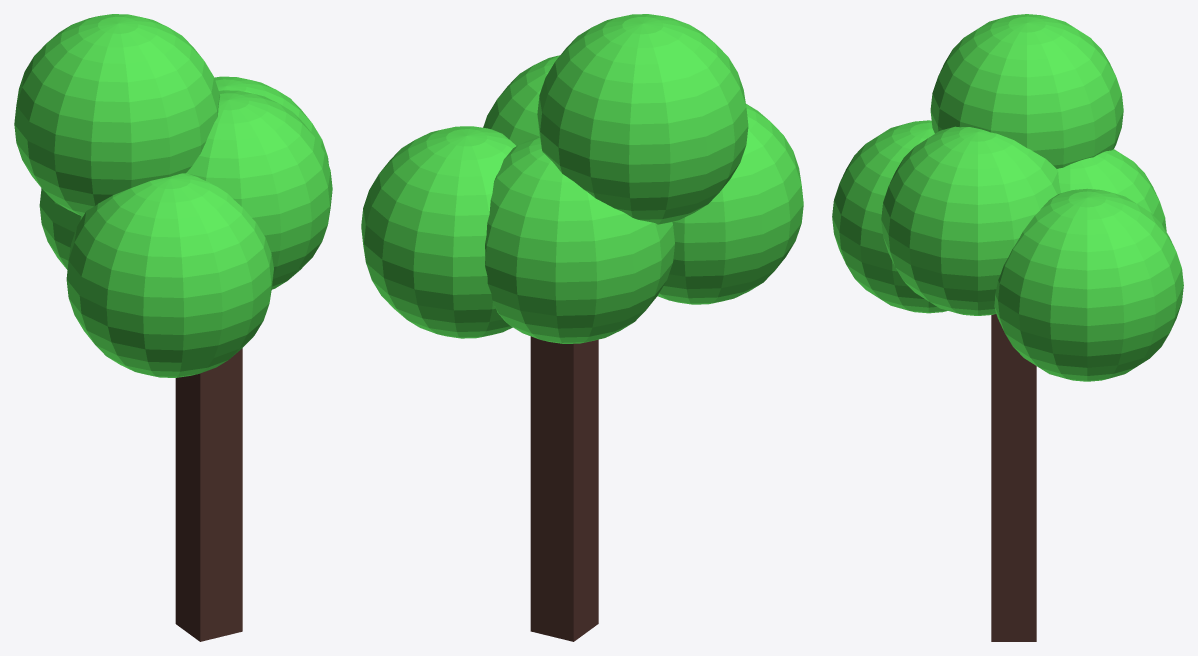
The model's file is tree.fbx.
3 renders of one model, left to right at view 1: azimuth 30°, elevation 25°; view 2: azimuth 150°, elevation 25°; view 3: azimuth 270°, elevation 25°, orthographic. The views are drawn at different scales.
Parts seen in each view (by area): view 1: Cube; view 2: Cube; view 3: Cube.
Part boxes in pixels (x1,y1,x2,y2): Cube: (14,14,332,641); Cube: (361,14,803,641); Cube: (832,14,1183,641).
Size of the model in its own units: 670 by 1228 by 685.
